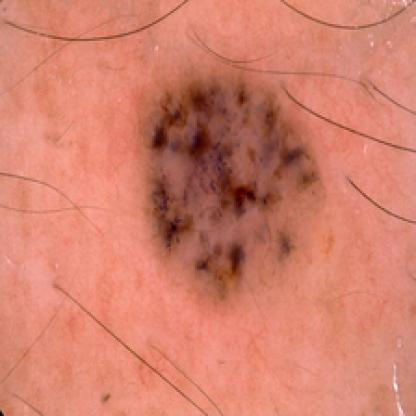malignant: (143, 78, 327, 280)
